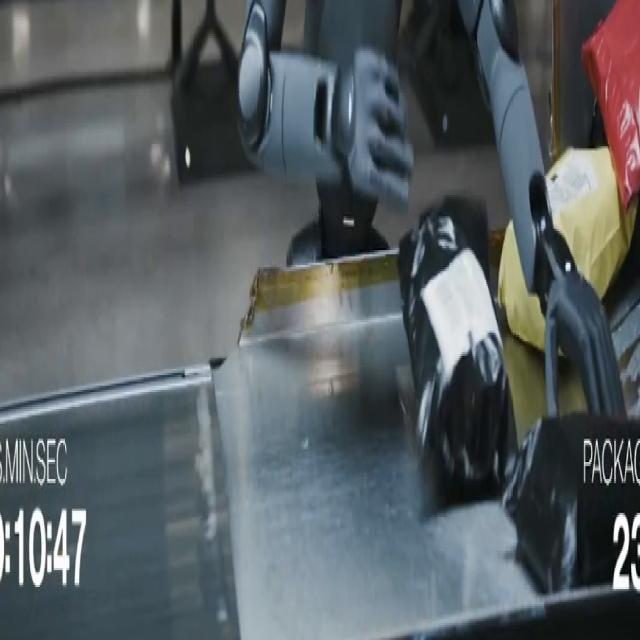package: (399, 198, 516, 504), (503, 414, 639, 593), (547, 147, 636, 298), (582, 0, 639, 209)
